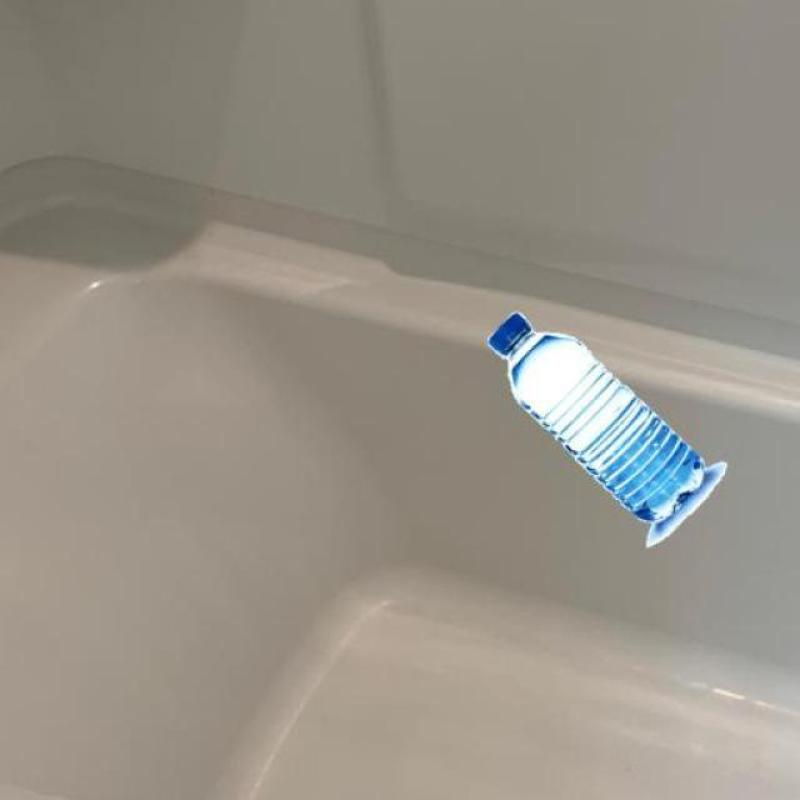botella: (486, 312, 706, 526)
